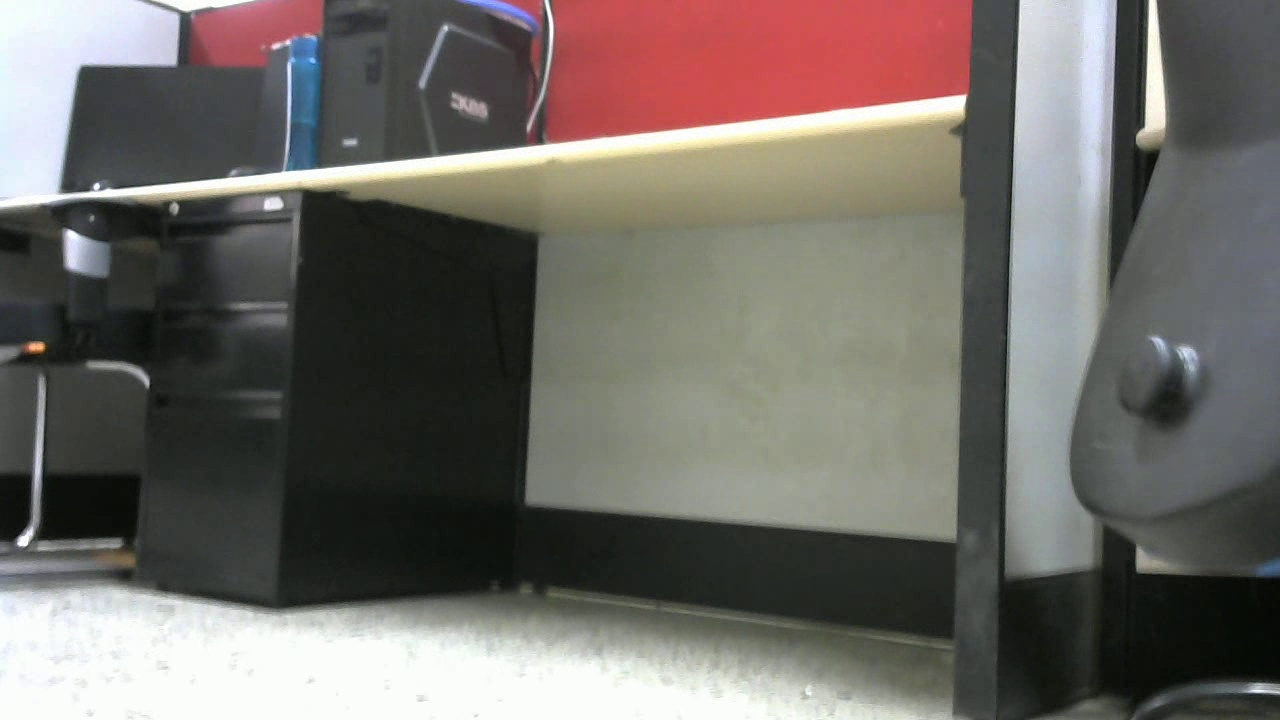chair: (1, 188, 165, 581)
